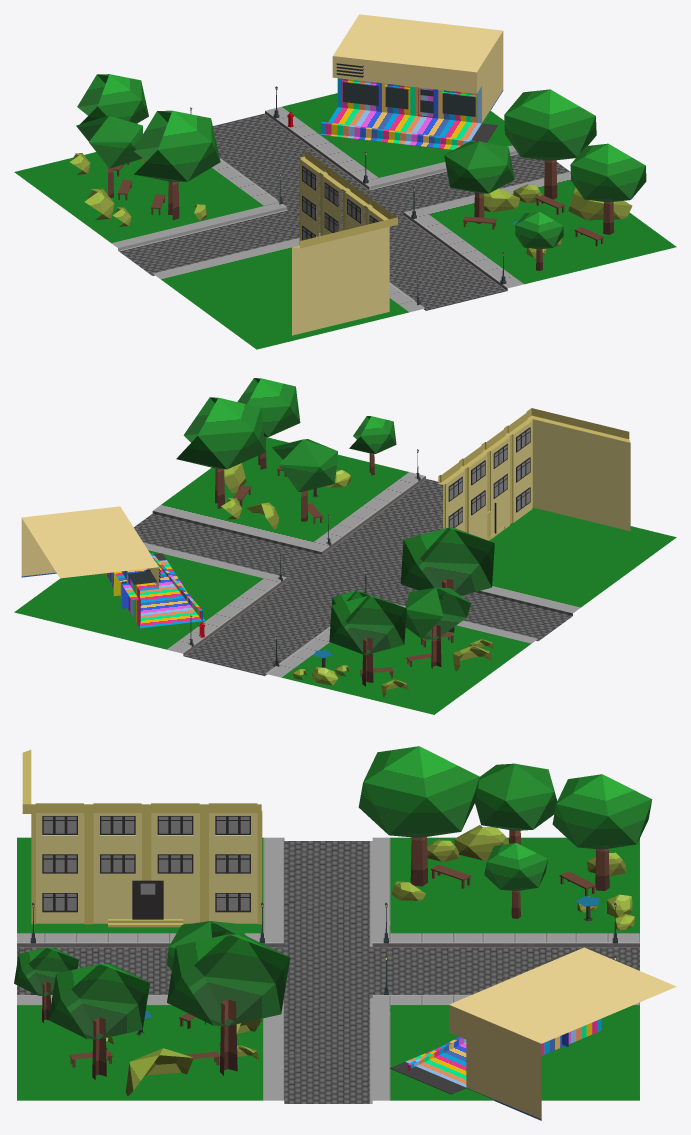
The model's file is braves.glb.
The picture shows the model from 3 angles, top to bottom: view 1: azimuth 30°, elevation 25°; view 2: azimuth 150°, elevation 25°; view 3: azimuth 270°, elevation 25°; orthographic projection. The views are drawn at different scales.
Visible parts, largest first — view 1: Road, Brave, Building.001, Tree.001, Tree.006, Tree.004, Tree, Tree.007, Tree.002, Tree.003, Shrubs.004, Shrubs (+1 smaller); view 2: Road, Building.001, Brave, Tree.006, Tree.001, Tree.007, Tree.002, Tree, Tree.004, Tree.003; view 3: Road, Building.001, Brave, Tree.001, Tree.006, Tree.004, Tree.007, Tree.002, Tree.005, Tree.003, Shrubs.004, Tree (+2 smaller).
Boxes of the visible parts, bbox=[...] form: Road: bbox=[14, 93, 676, 349]; Brave: bbox=[320, 14, 503, 149]; Building.001: bbox=[292, 149, 397, 335]; Tree.001: bbox=[504, 89, 596, 199]; Tree.006: bbox=[134, 110, 220, 220]; Tree.004: bbox=[570, 143, 646, 234]; Tree: bbox=[444, 141, 514, 223]; Tree.007: bbox=[77, 74, 148, 124]; Tree.002: bbox=[76, 115, 142, 197]; Tree.003: bbox=[515, 211, 563, 270]; Shrubs.004: bbox=[568, 187, 632, 220]; Shrubs: bbox=[474, 188, 519, 212]; Road: bbox=[14, 437, 676, 714]; Building.001: bbox=[438, 408, 630, 540]; Brave: bbox=[21, 506, 205, 628]; Tree.006: bbox=[400, 527, 494, 632]; Tree.001: bbox=[176, 397, 266, 508]; Tree.007: bbox=[329, 595, 406, 686]; Tree.002: bbox=[405, 587, 471, 668]; Tree: bbox=[272, 439, 337, 521]; Tree.004: bbox=[237, 378, 300, 469]; Tree.003: bbox=[349, 416, 396, 475]; Road: bbox=[17, 837, 639, 1103]; Building.001: bbox=[22, 750, 262, 927]; Brave: bbox=[390, 947, 676, 1120]; Tree.001: bbox=[167, 934, 289, 1075]; Tree.006: bbox=[358, 746, 479, 886]; Tree.004: bbox=[48, 964, 149, 1079]; Tree.007: bbox=[552, 774, 652, 890]; Tree.002: bbox=[475, 763, 557, 844]; Tree.005: bbox=[484, 843, 547, 918]; Tree.003: bbox=[14, 947, 78, 1022]; Shrubs.004: bbox=[126, 1048, 193, 1096]; Tree: bbox=[167, 921, 246, 1024].
Bounding box in the file's own units: 42.93 × 10.23 × 42.59.
3 materials, 3 textured.
